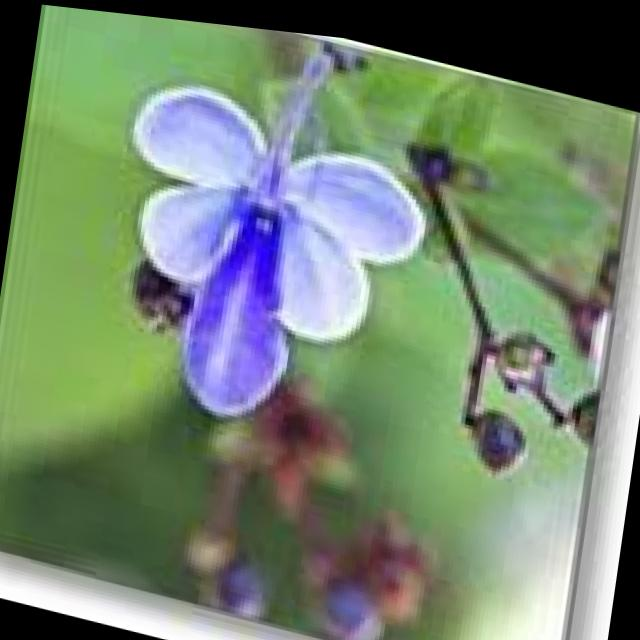Flower: (89, 42, 413, 465)
